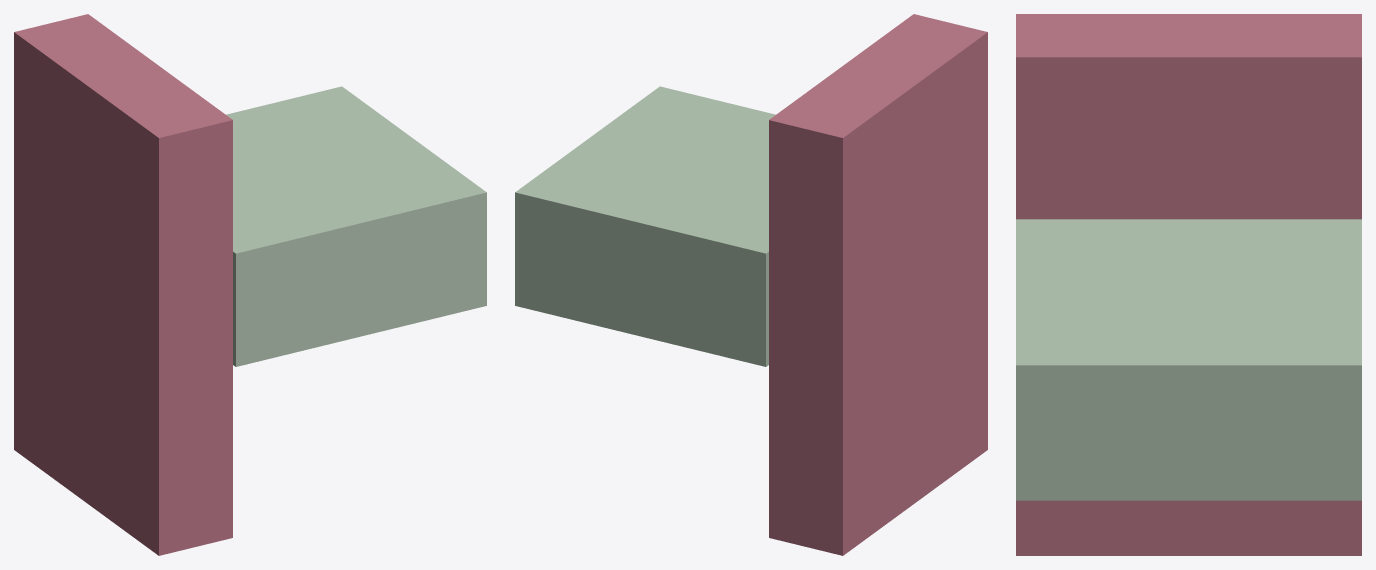
The picture shows the model from 3 angles, left to right: view 1: azimuth 30°, elevation 25°; view 2: azimuth 150°, elevation 25°; view 3: azimuth 270°, elevation 25°; orthographic projection. The views are drawn at different scales.
Parts seen in each view (by area): view 1: world; view 2: world; view 3: world.
Boxes of the visible parts, x1=… form: world: x1=14, y1=14, x2=486, y2=555; world: x1=515, y1=14, x2=987, y2=555; world: x1=1016, y1=14, x2=1361, y2=555.
Size of the model in its own units: 5.75 by 7 by 4.4.
